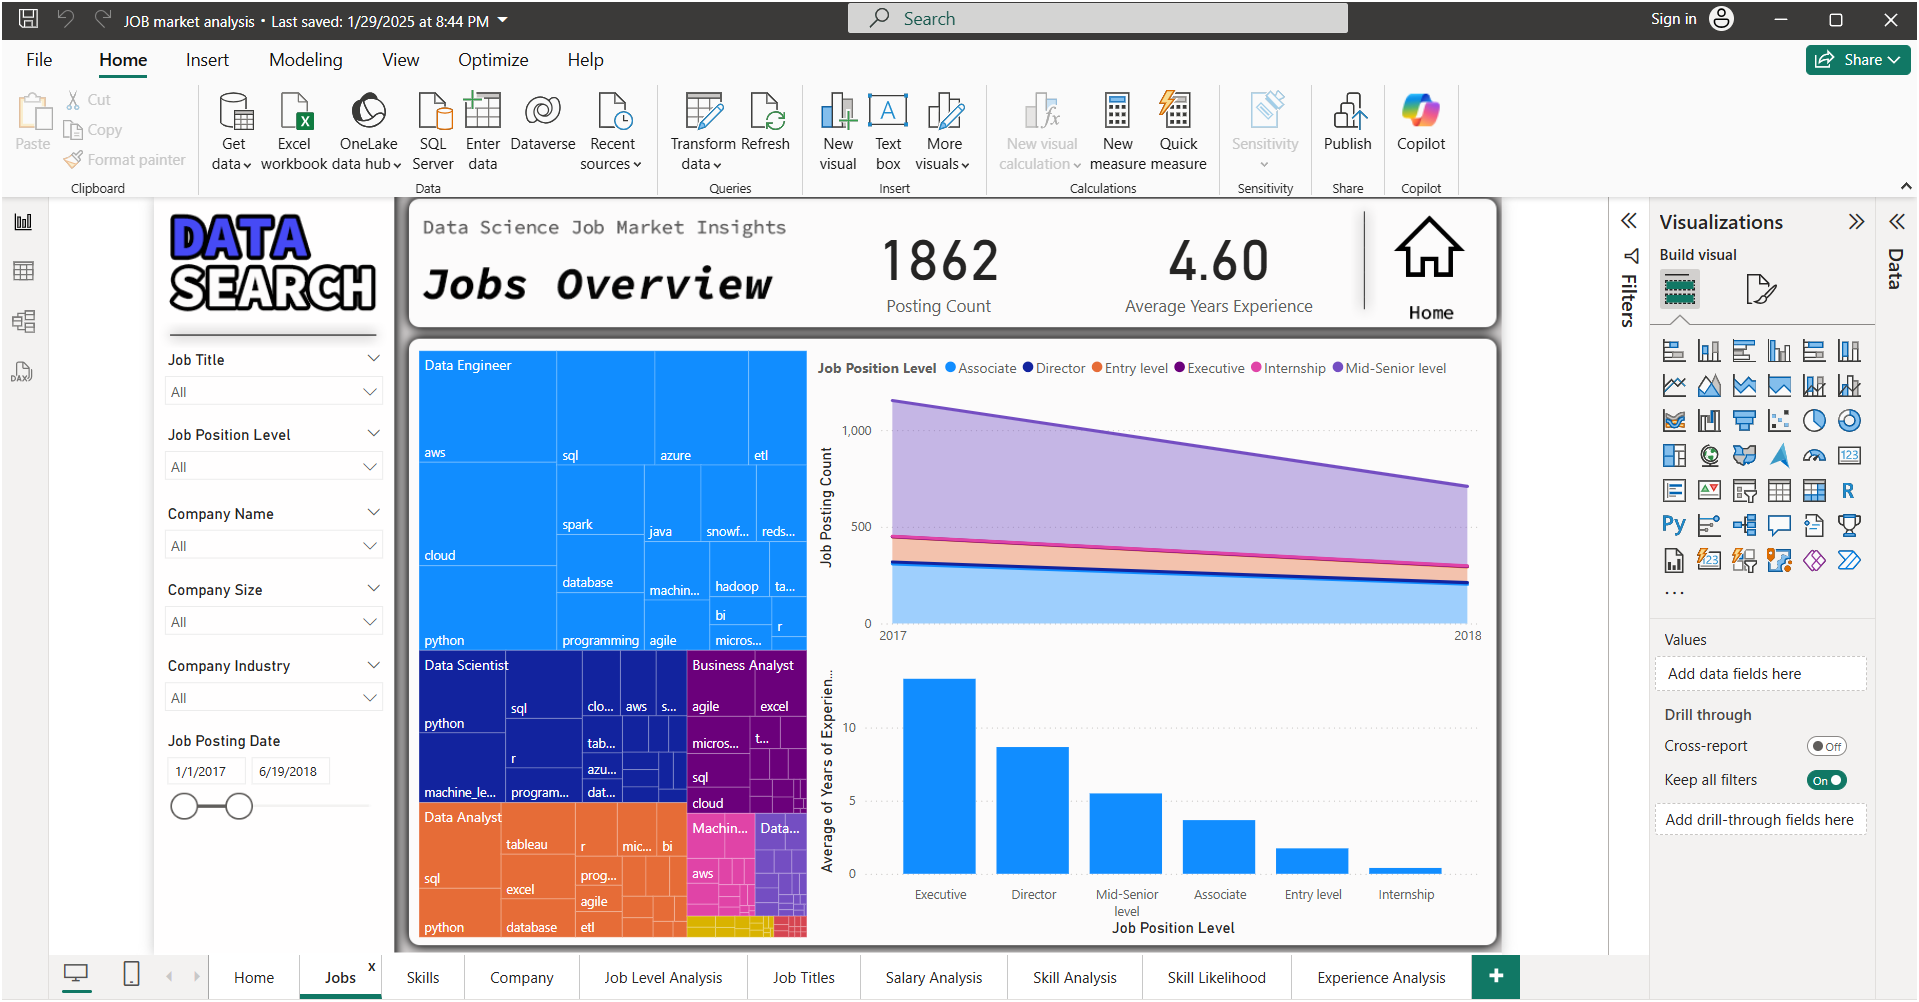

The dashboard page shown, as its layout file describes it:
{"tool":"powerbi","page":{"name":"Jobs","canvas":[1280,720],"ordinal":1},"visuals":[{"type":"columnChart","fields":{"Y":["Avg(Job Postings.Years of Experience)"],"Category":["Job Postings.Job Position Level"]},"box":[625.4,434.8,640,273.3],"z":0},{"type":"stackedAreaChart","fields":{"Category":["Job Postings.Job Posting Date.Variation.Date Hierarchy.Year","Job Postings.Job Posting Date.Variation.Date Hierarchy.Quarter","Job Postings.Job Posting Date.Variation.Date Hierarchy.Month","Job Postings.Job Posting Date.Variation.Date Hierarchy.Day"],"Y":["CountNonNull(Job Postings.Job Posting ID)"],"Series":["Job Postings.Job Position Level"]},"box":[625.4,141,640,293.7],"z":1000},{"type":"treemap","fields":{"Group":["Job Postings.Job Title"],"Values":["CountNonNull(Job Skills.Job Skills)"],"Details":["Job Skills.Job Skills"]},"box":[247.1,141,378.4,567.1],"z":2000},{"type":"slicer","fields":{"Values":["Job Postings.Job Title"]},"box":[0,141,227.6,72],"z":3000},{"type":"slicer","fields":{"Values":["Job Postings.Job Position Level"]},"box":[0,213,227.6,72],"z":4000},{"type":"slicer","fields":{"Values":["Job Postings.Company Name"]},"box":[0,287.9,227.6,72],"z":5000},{"type":"slicer","fields":{"Values":["Job Postings.Company Size"]},"box":[0,359.9,227.6,72],"z":6000},{"type":"slicer","fields":{"Values":["Job Postings.Company Industry"]},"box":[0,431.9,227.6,72],"z":7000},{"type":"slicer","fields":{"Values":["Job Postings.Job Posting Date"]},"box":[0,503.8,227.6,215.9],"z":8000},{"type":"card","fields":{"Values":["_Measures.Posting Count"]},"box":[607.9,8.8,275.3,111.9],"z":9000},{"type":"card","fields":{"Values":["Avg(Job Postings.Years of Experience)"]},"box":[883.2,8.8,256.8,111.9],"z":10000},{"type":"image","box":[1169,8.3,84.6,77.9],"z":12000}]}

Visuals, with their boxes on the page's 1280x720 design canvas (x1, y1, x2, y2). These are canvas units, not pixel positions in the 1919x1002 screenshot, which may show the page scaled, cropped or inside an application window:
columnChart - Avg(Job Postings.Years of Experience) x Job Postings.Job Position Level: 625,435,1265,708
stackedAreaChart - Job Postings.Job Posting Date.Variation.Date Hierarchy.Year x Job Postings.Job Posting Date.Variation.Date Hierarchy.Quarter: 625,141,1265,435
treemap - Job Postings.Job Title x CountNonNull(Job Skills.Job Skills): 247,141,626,708
slicer - Job Postings.Job Title: 0,141,228,213
slicer - Job Postings.Job Position Level: 0,213,228,285
slicer - Job Postings.Company Name: 0,288,228,360
slicer - Job Postings.Company Size: 0,360,228,432
slicer - Job Postings.Company Industry: 0,432,228,504
slicer - Job Postings.Job Posting Date: 0,504,228,720
card - _Measures.Posting Count: 608,9,883,121
card - Avg(Job Postings.Years of Experience): 883,9,1140,121
image: 1169,8,1254,86
